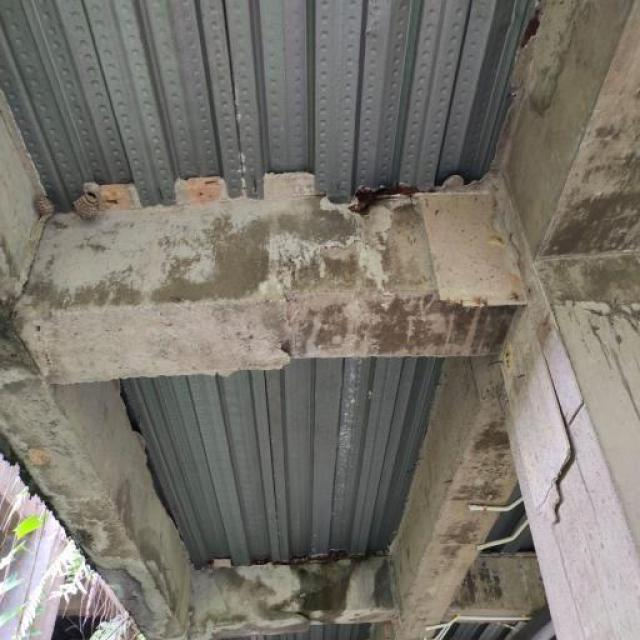D10: (278, 232, 370, 356)
